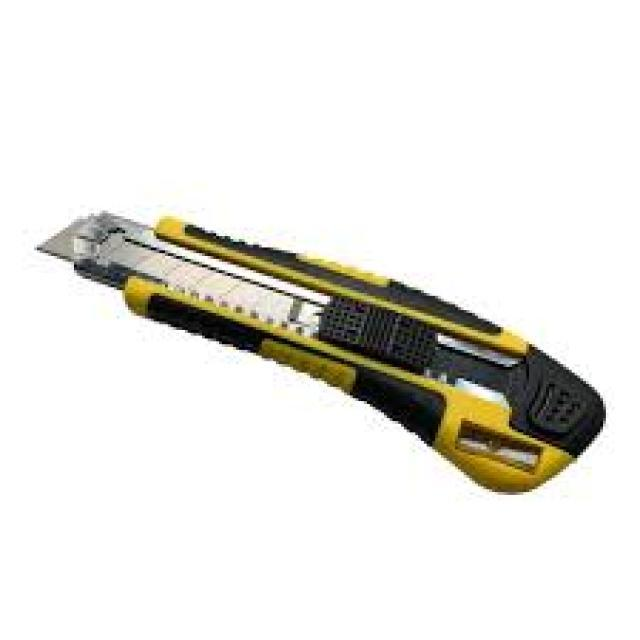cutter: (26, 190, 617, 503)
